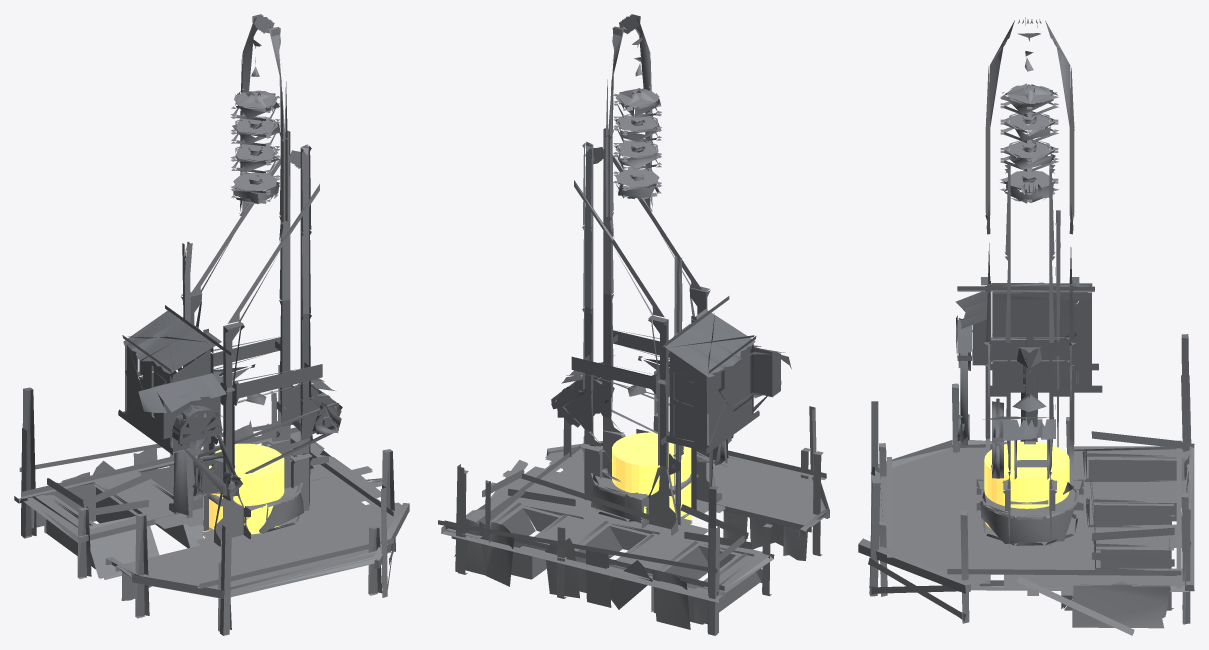
The model's file is coal_thumper.glb.
3 views of the same model, side by side, from view 1: azimuth 30°, elevation 25°; view 2: azimuth 150°, elevation 25°; view 3: azimuth 270°, elevation 25° (orthographic). The views are drawn at different scales.
Visible parts, largest first — view 1: coal_thumper_Building; view 2: coal_thumper_Building; view 3: coal_thumper_Building.
Boxes of the visible parts, bbox=[...] form: coal_thumper_Building: bbox=[14, 14, 409, 635]; coal_thumper_Building: bbox=[438, 14, 829, 635]; coal_thumper_Building: bbox=[858, 17, 1194, 635].
Bounding box in the file's own units: 16.83 × 29.06 × 15.78.
